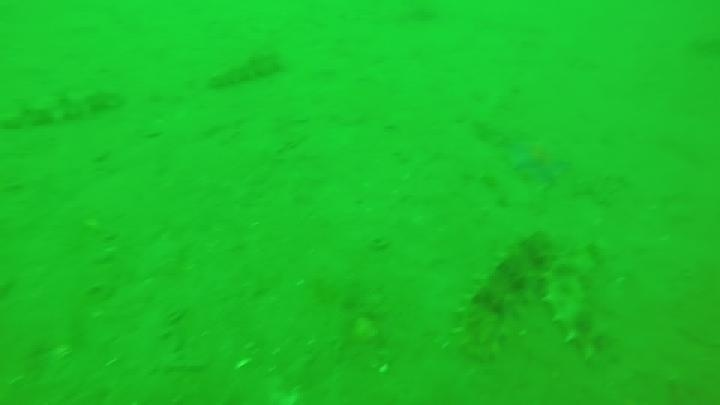holothurian: (454, 231, 555, 362), (538, 236, 615, 365), (4, 84, 123, 132), (206, 49, 285, 91)
